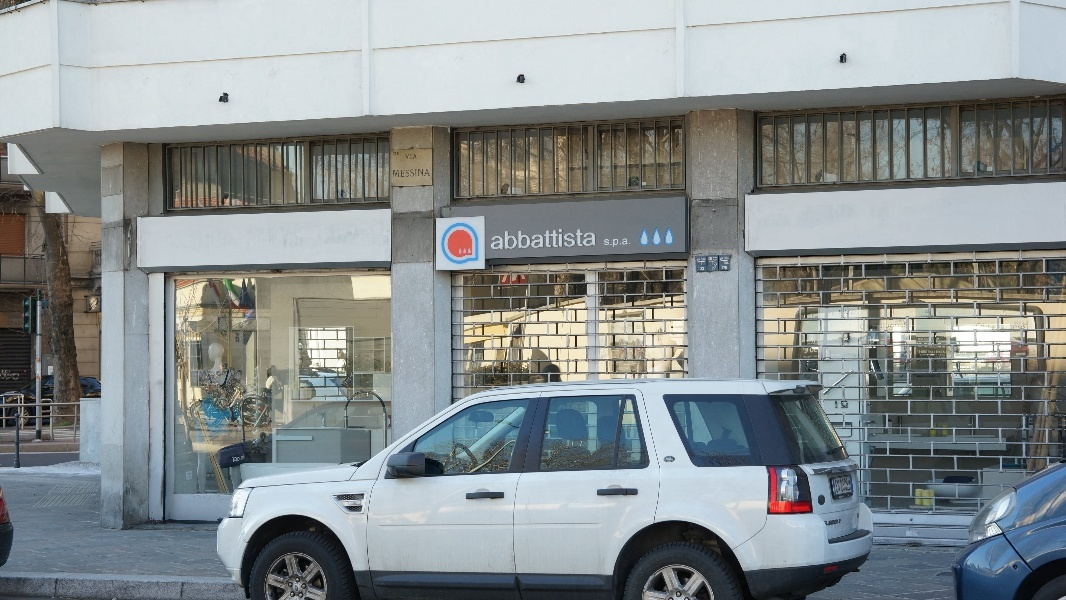text: (497, 229, 512, 250), (513, 229, 528, 250), (529, 229, 544, 250), (545, 229, 560, 250), (561, 229, 576, 250), (577, 229, 592, 250), (835, 479, 848, 494), (1, 370, 16, 381), (401, 169, 416, 178), (840, 477, 848, 493), (417, 169, 431, 178), (609, 239, 624, 247), (89, 296, 96, 312), (881, 322, 896, 329), (867, 322, 880, 329), (805, 347, 816, 354), (1009, 325, 1024, 330), (977, 324, 992, 329), (897, 322, 907, 329), (824, 519, 832, 527), (833, 519, 841, 527), (493, 229, 496, 250), (593, 229, 596, 250), (722, 266, 736, 270), (394, 169, 400, 178), (406, 155, 416, 160), (97, 296, 100, 312), (625, 239, 631, 247), (804, 355, 816, 359), (849, 477, 852, 493), (929, 354, 944, 357), (709, 257, 720, 261), (17, 370, 21, 381), (962, 366, 976, 369), (1014, 321, 1024, 325), (725, 262, 736, 265), (929, 338, 940, 341), (917, 351, 928, 354), (965, 366, 976, 369), (604, 239, 608, 247), (840, 310, 848, 314), (934, 351, 944, 354), (966, 374, 976, 377), (393, 152, 400, 156), (697, 258, 704, 262), (713, 266, 720, 270), (849, 310, 856, 314), (817, 347, 821, 354), (897, 320, 906, 323), (807, 342, 816, 345), (839, 354, 848, 357), (919, 338, 928, 341), (919, 354, 928, 357), (1003, 325, 1008, 330), (714, 262, 720, 266), (849, 354, 857, 357), (936, 351, 944, 354), (817, 342, 824, 345), (921, 315, 928, 318), (945, 351, 952, 354), (953, 366, 960, 369), (929, 350, 934, 354), (1025, 321, 1029, 325), (1025, 325, 1028, 330), (929, 315, 934, 318), (721, 257, 724, 261), (701, 267, 704, 271), (993, 324, 995, 329), (846, 310, 848, 314), (945, 354, 947, 357), (417, 155, 418, 160), (817, 355, 818, 359)
